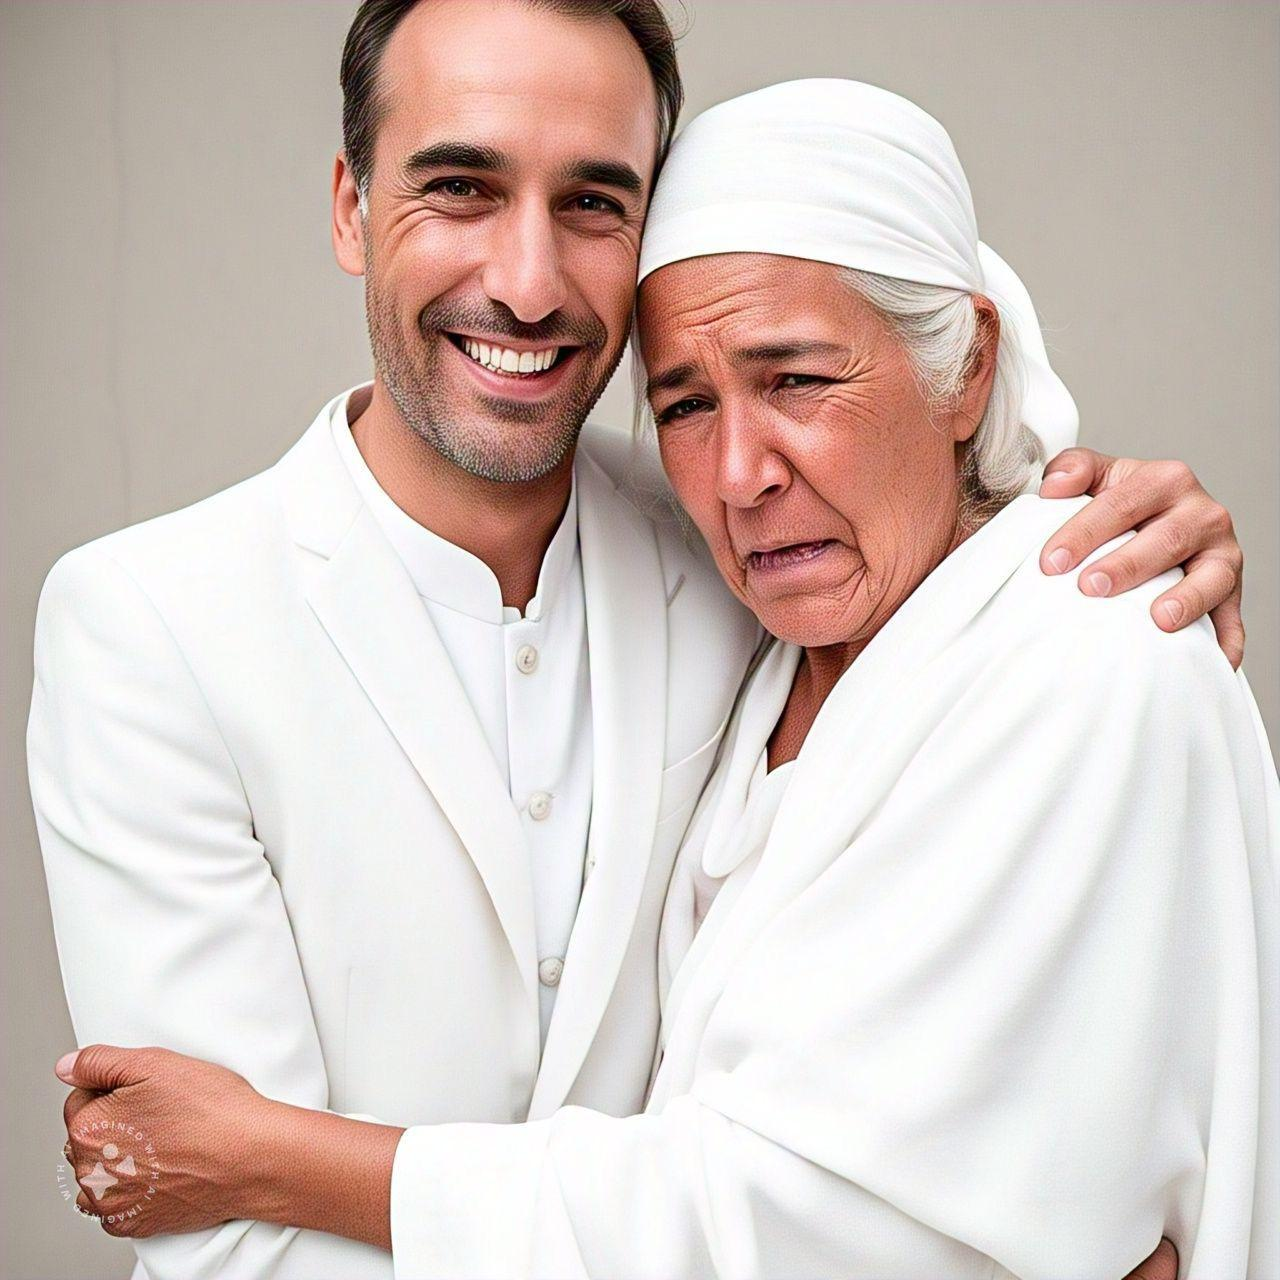feliz: (342, 0, 651, 482)
triste: (646, 230, 958, 634)
